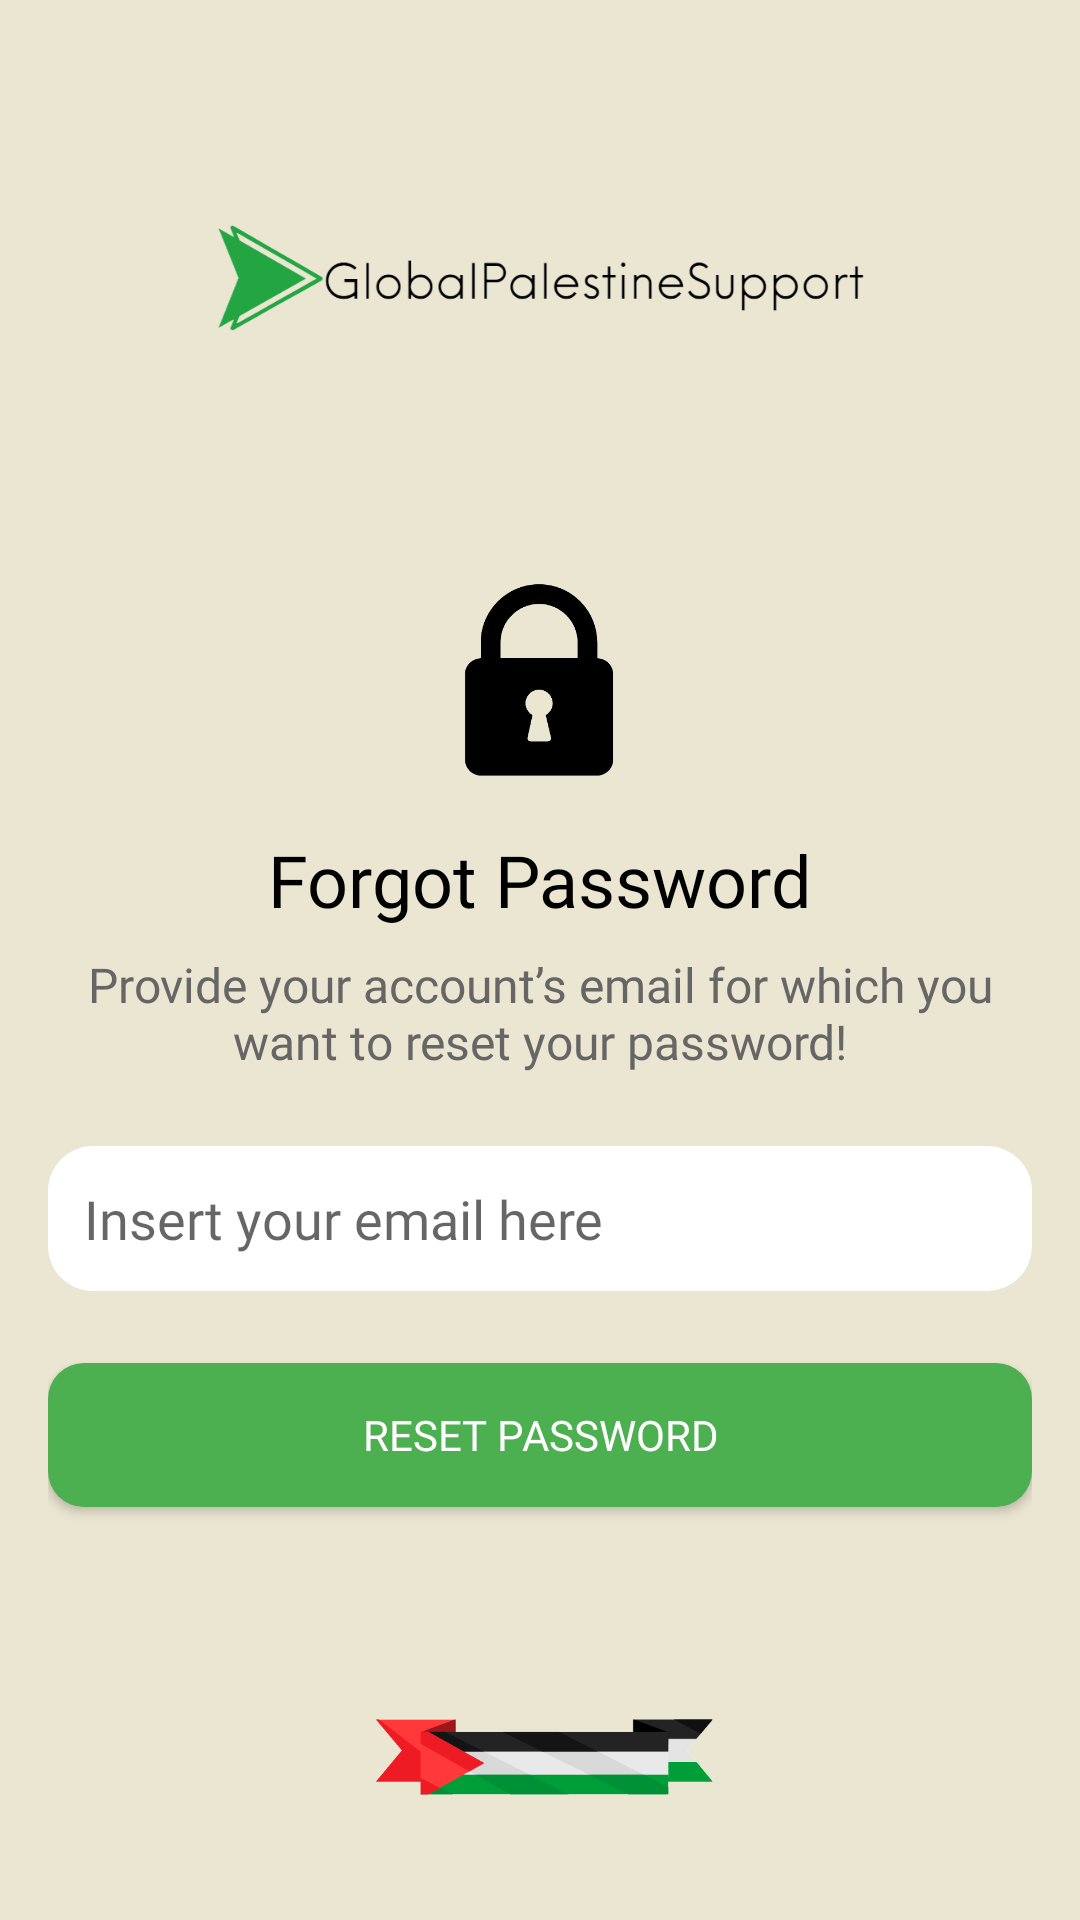

Named icons in this screenshot (1080 × 1920) and their bounding boxes, [x1, y1, x2, y2]:
flag: [376, 1719, 713, 1795]
lock: [465, 584, 613, 776]
